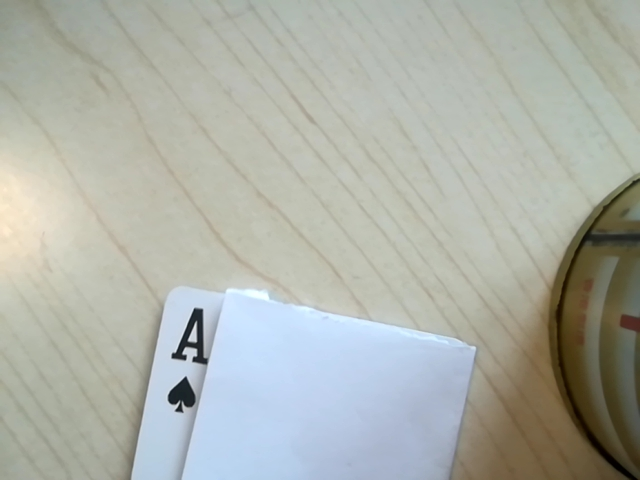ht a: (154, 303, 225, 437)
